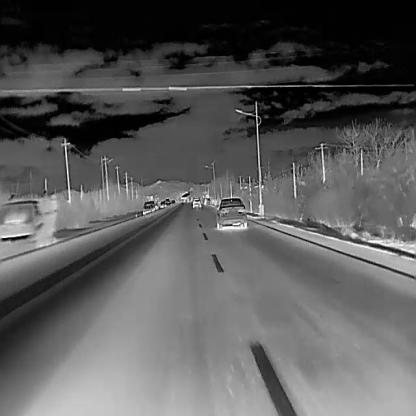car: (0, 190, 56, 250), (215, 197, 247, 230), (142, 199, 154, 215), (192, 197, 202, 208), (159, 199, 166, 208), (204, 196, 210, 204), (165, 197, 170, 205), (170, 198, 175, 204)
